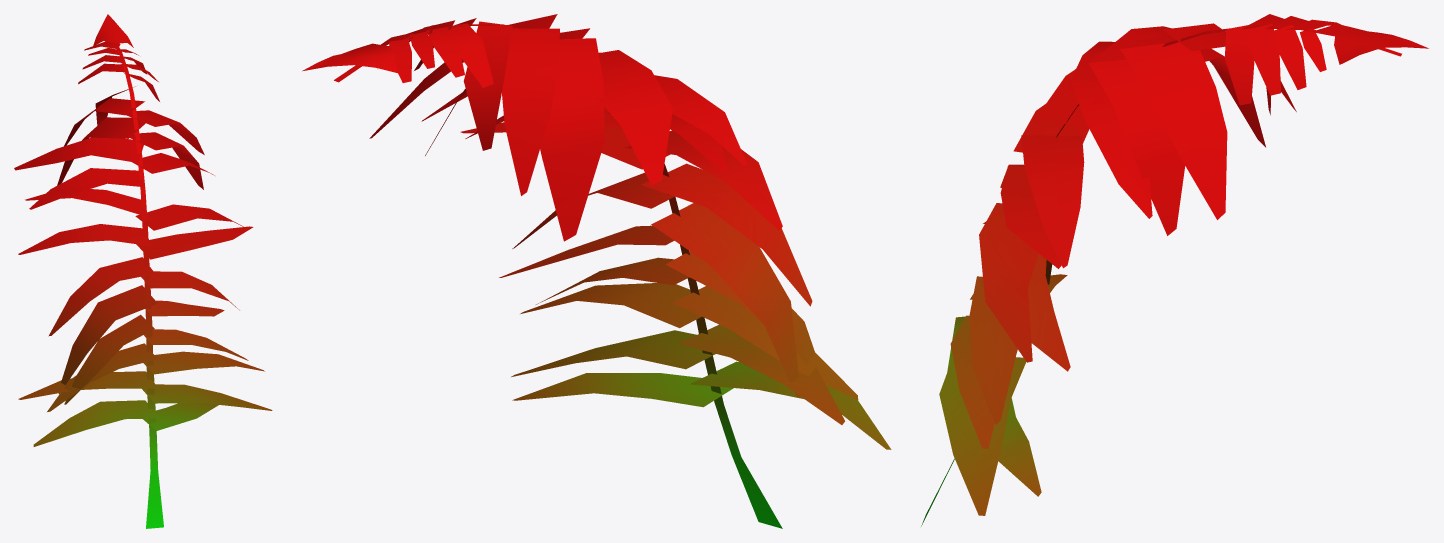
Rendered from Var8_LOD3.fbx.
The picture shows the model from 3 angles, left to right: view 1: azimuth 30°, elevation 25°; view 2: azimuth 150°, elevation 25°; view 3: azimuth 270°, elevation 25°; orthographic projection. The views are drawn at different scales.
Parts seen in each view (by area): view 1: _7mxn_Var8_LOD3; view 2: _7mxn_Var8_LOD3; view 3: _7mxn_Var8_LOD3.
Boxes of the visible parts, x1=… form: _7mxn_Var8_LOD3: x1=14, y1=14, x2=272, y2=528; _7mxn_Var8_LOD3: x1=302, y1=14, x2=891, y2=528; _7mxn_Var8_LOD3: x1=921, y1=14, x2=1428, y2=526.
Size of the model in its own units: 10.32 by 14.87 by 12.2.
